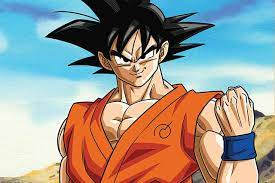Songoku: (45, 1, 218, 86)
